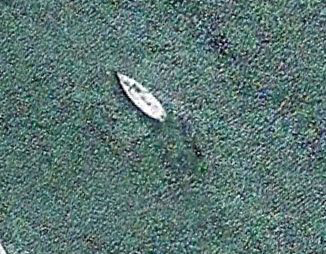boat: (115, 71, 168, 123)
